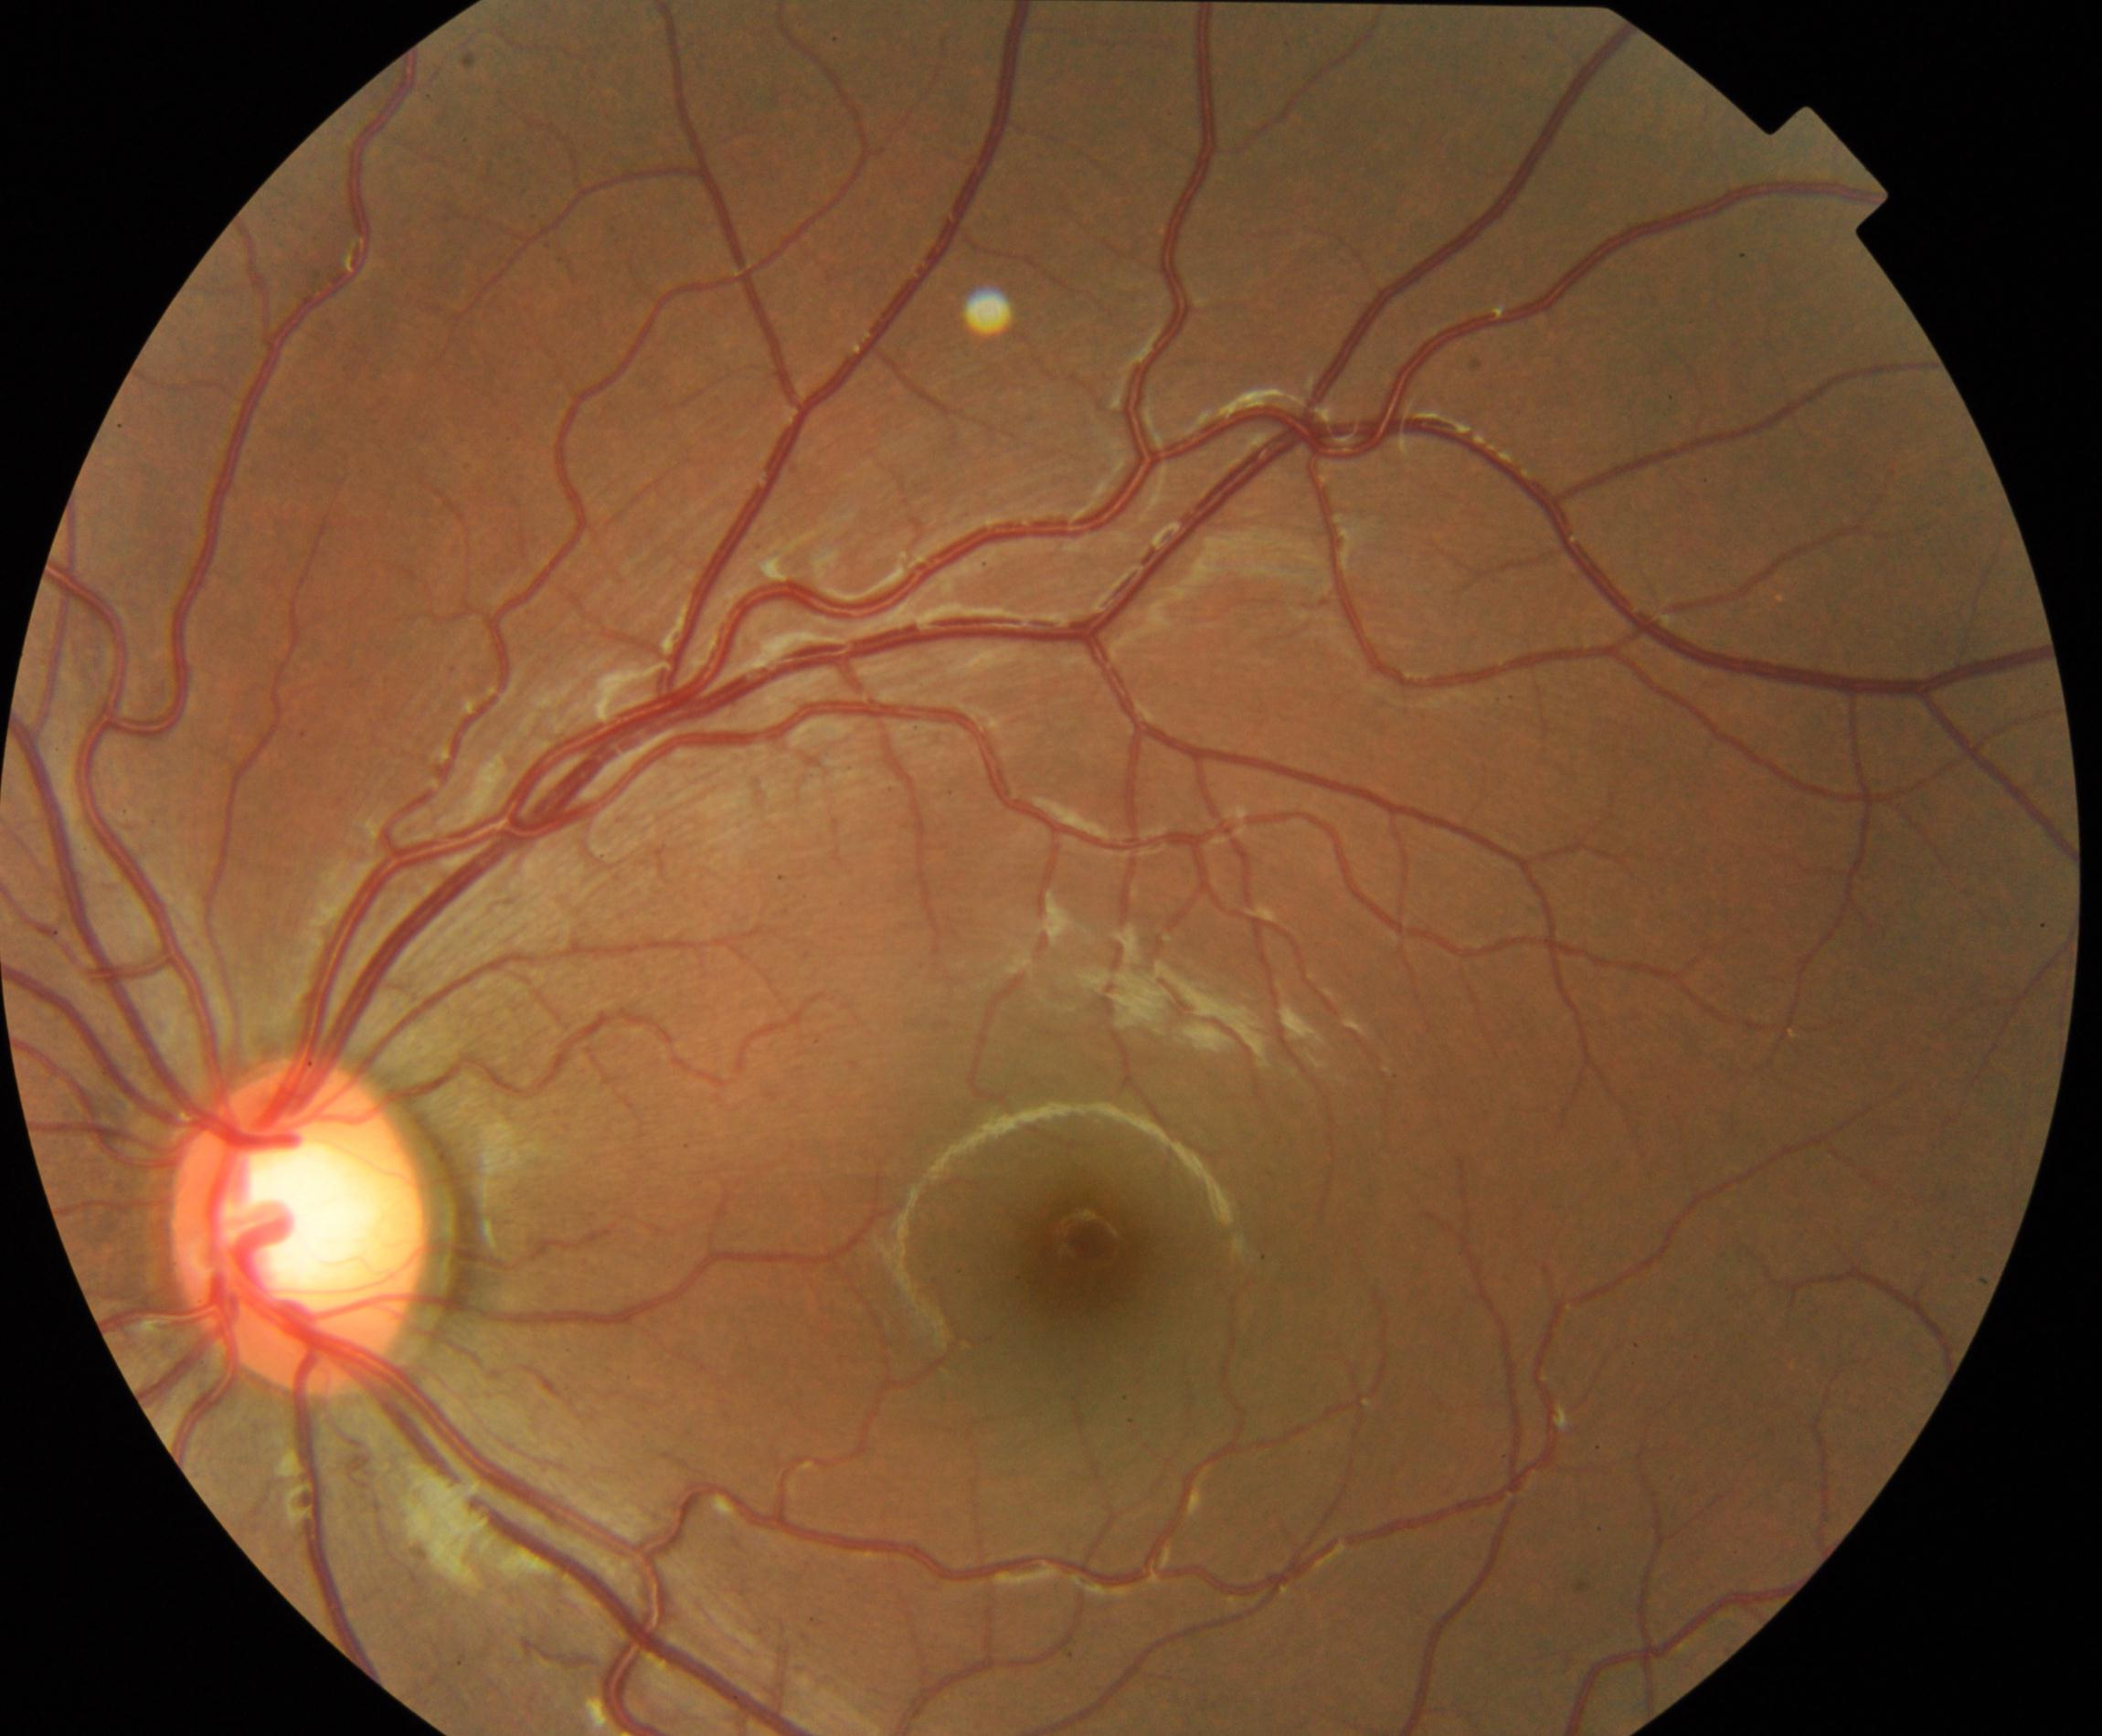Glaucoma section-1: (253, 1145, 384, 1298)
Glaucoma section-2: (162, 1059, 450, 1399)
